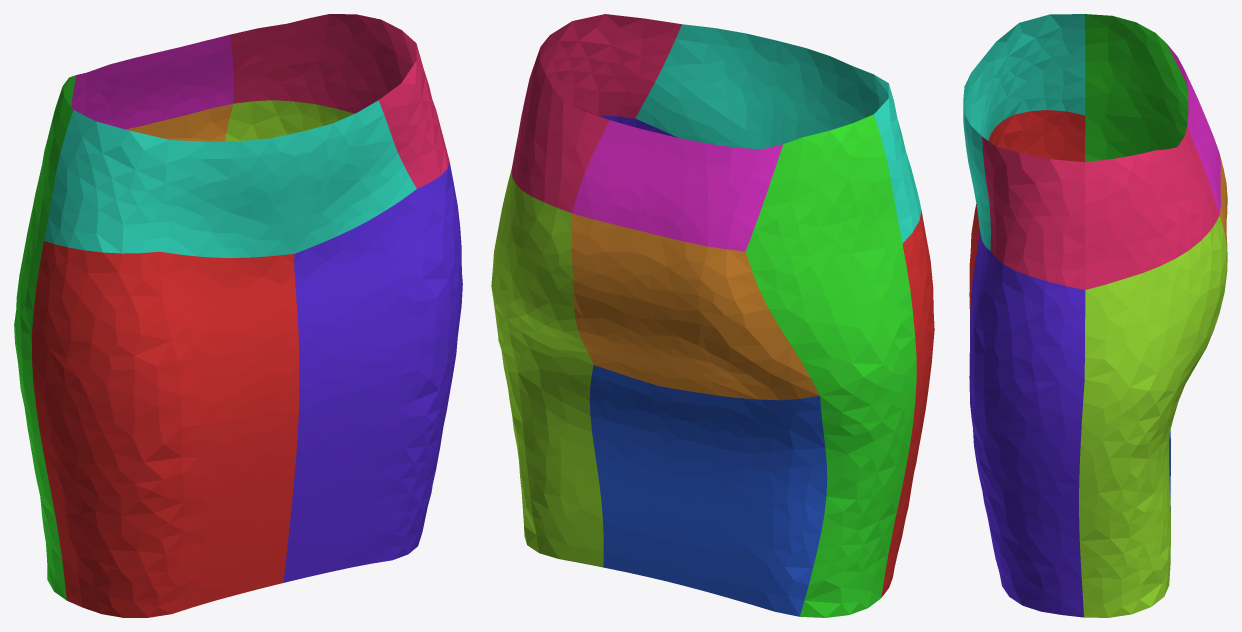
File: kskirt_garmentA.obj
3 views of the same model, side by side, from view 1: azimuth 30°, elevation 25°; view 2: azimuth 150°, elevation 25°; view 3: azimuth 270°, elevation 25° (orthographic). The views are drawn at different scales.
Visible parts, largest first — view 1: kskirt_garmentA; view 2: kskirt_garmentA; view 3: kskirt_garmentA.
Part boxes in pixels (x1,y1,x2,y2): kskirt_garmentA: (14,14,462,617); kskirt_garmentA: (491,14,934,617); kskirt_garmentA: (963,14,1227,617).
Bounding box in the file's own units: 608 × 690 × 364.
